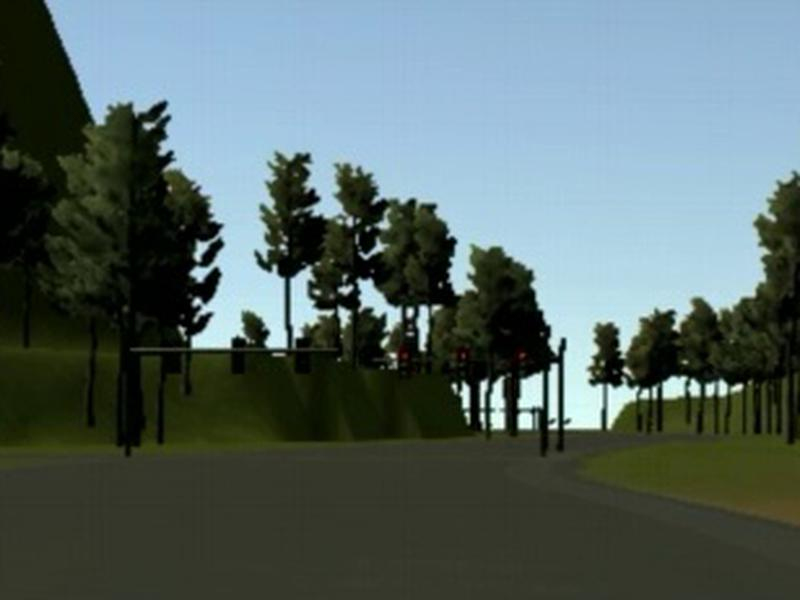Red: (514, 346, 528, 379), (456, 348, 470, 379), (398, 351, 411, 379)
